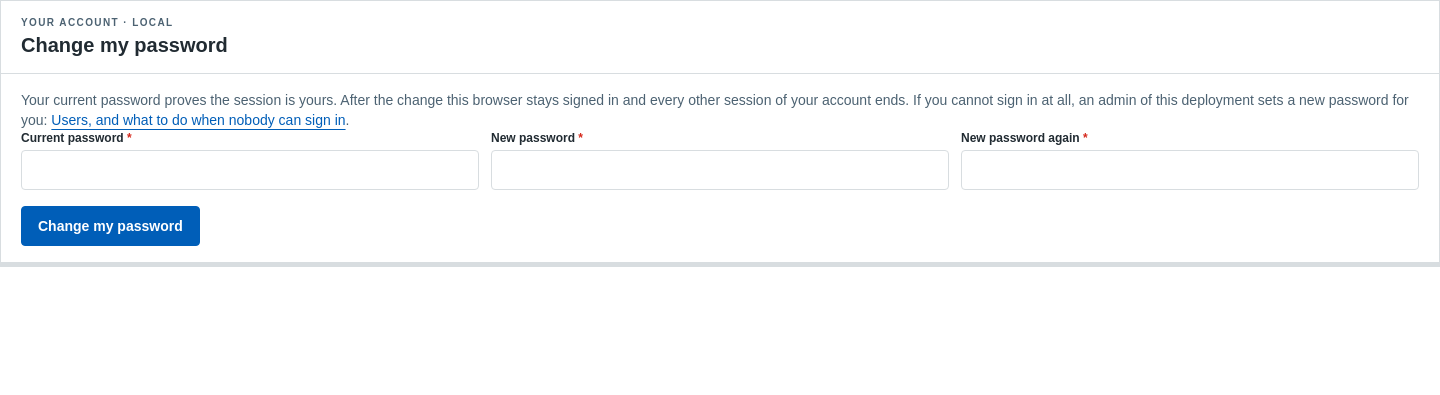
Test: ChangeMyPasswordCard › a wrong current password is the server’s sentence, not a guess
Type "wrong-one-entirely" into the password field with test id "my-password-current" at point(250, 170), box [21, 150, 479, 190]
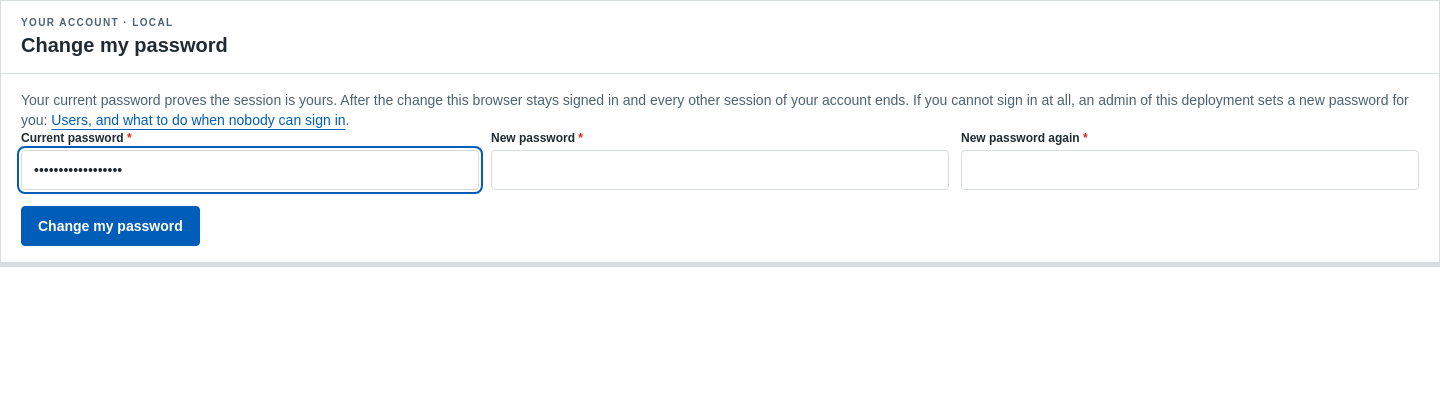
Type "a-brand-new-password" into the password field with test id "my-password-new" at point(720, 170), box [491, 150, 949, 190]
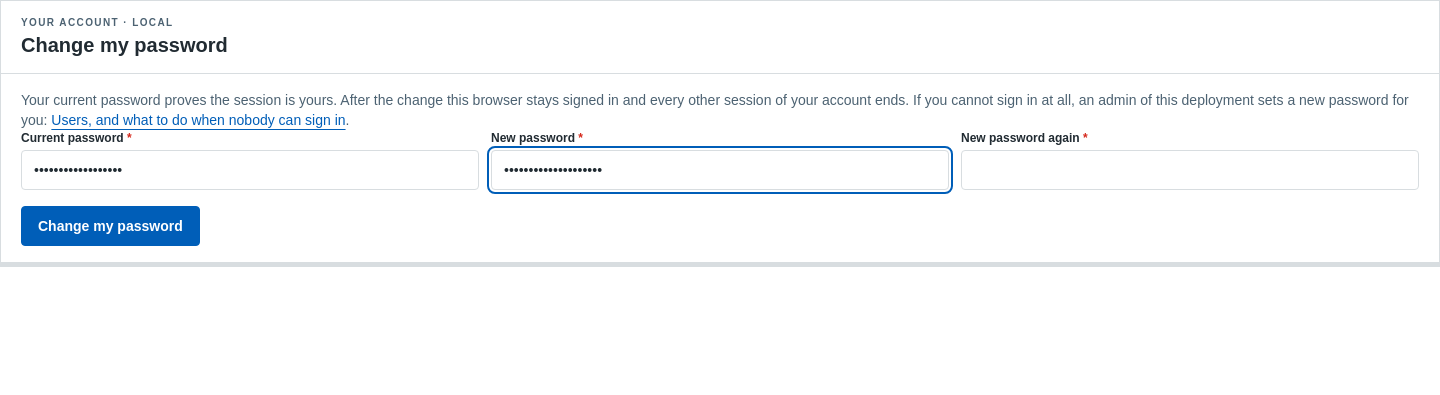
Type "a-brand-new-password" into the password field with test id "my-password-again" at point(1190, 170), box [961, 150, 1419, 190]
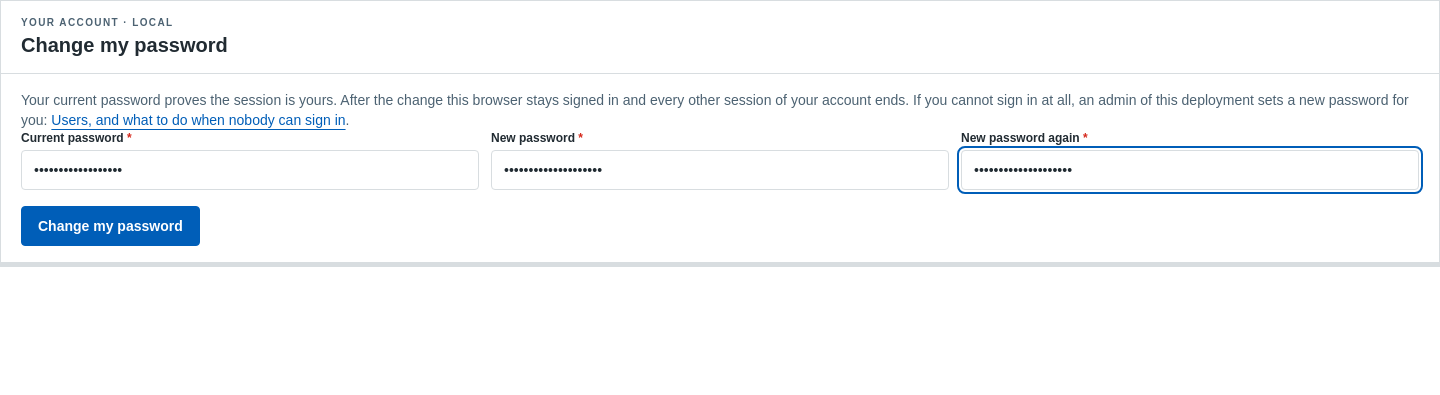
Click the button with test id "my-password-submit" at point(110, 226), box [21, 206, 200, 246]
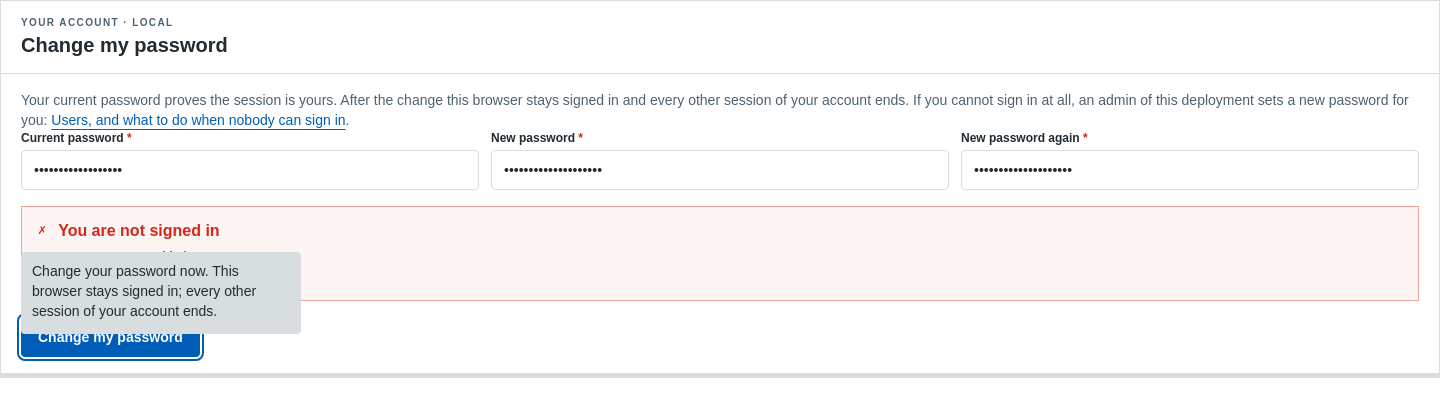
Result: the message with test id "error-state" shows "current password is incorrect" at [58, 249, 237, 265]
